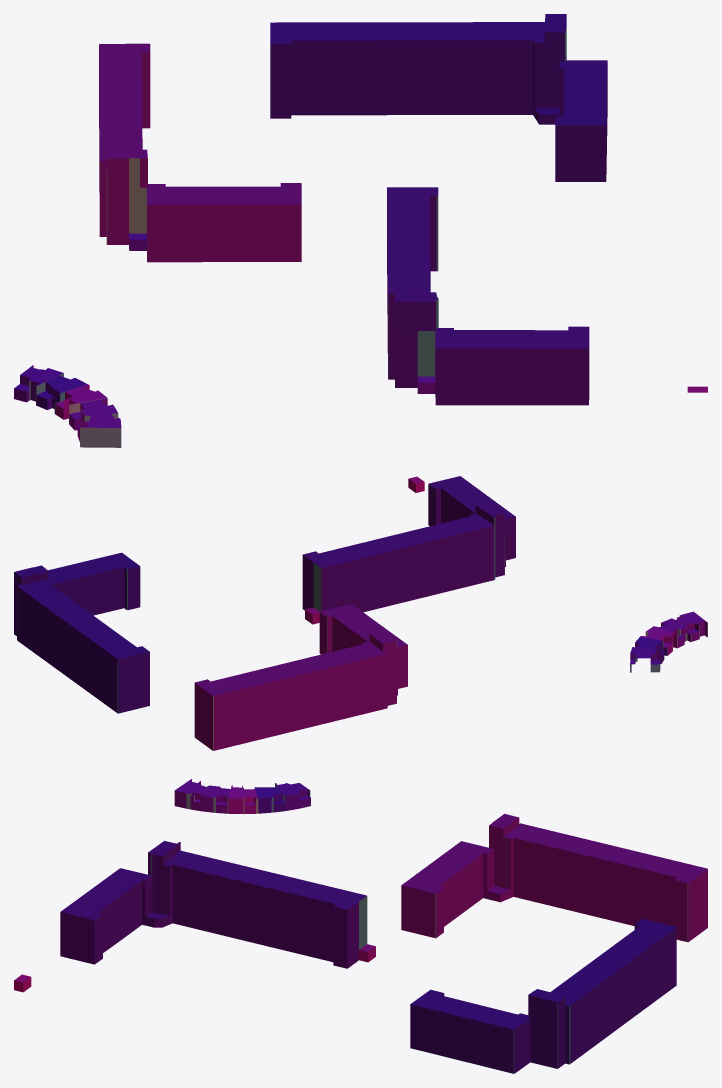
File: buildings_13_8.glb
3 views of the same model, one above another, from view 1: azimuth 30°, elevation 25°; view 2: azimuth 150°, elevation 25°; view 3: azimuth 270°, elevation 25° (orthographic). The views are drawn at different scales.
Visible parts, largest first — view 1: buildings_13_8; view 2: buildings_13_8; view 3: buildings_13_8.
Boxes of the visible parts, box(x1,y1,x2,y2) form: buildings_13_8: box(14, 14, 707, 447); buildings_13_8: box(14, 476, 707, 750); buildings_13_8: box(14, 779, 707, 1073).
Bounding box in the file's own units: 236 × 26.58 × 248.
